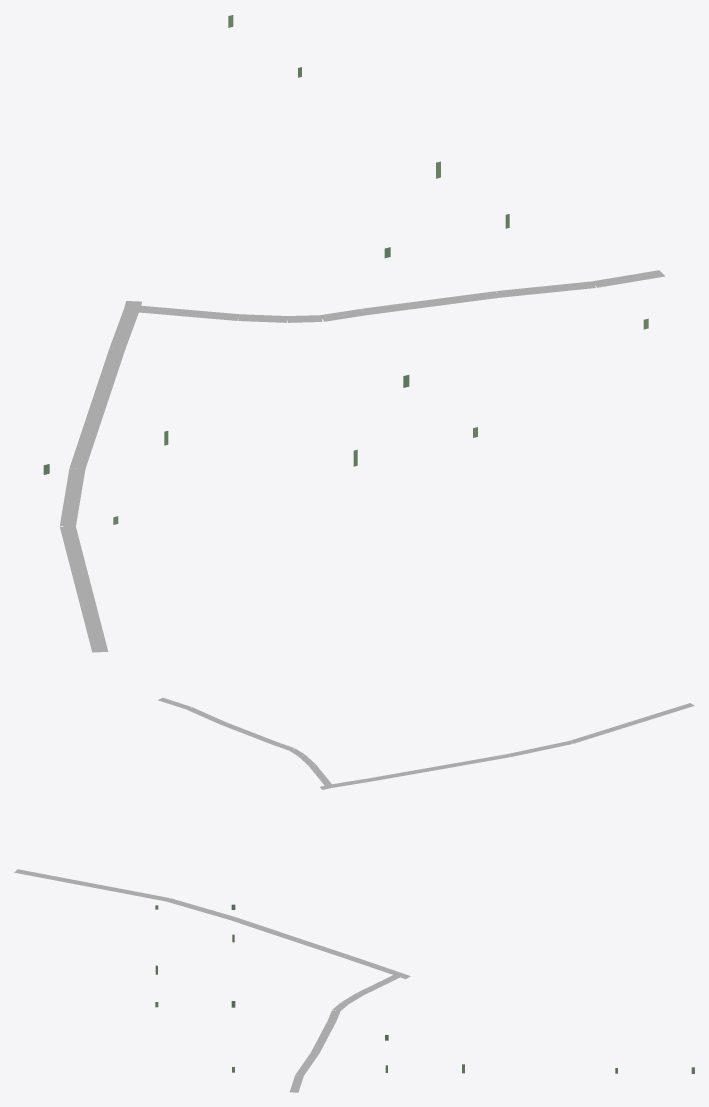
3 renders of one model, top to bottom at view 1: azimuth 30°, elevation 25°; view 2: azimuth 150°, elevation 25°; view 3: azimuth 270°, elevation 25°, orthographic. The views are drawn at different scales.
Bounding box in the file's own units: 411 × 9.48 × 533.
